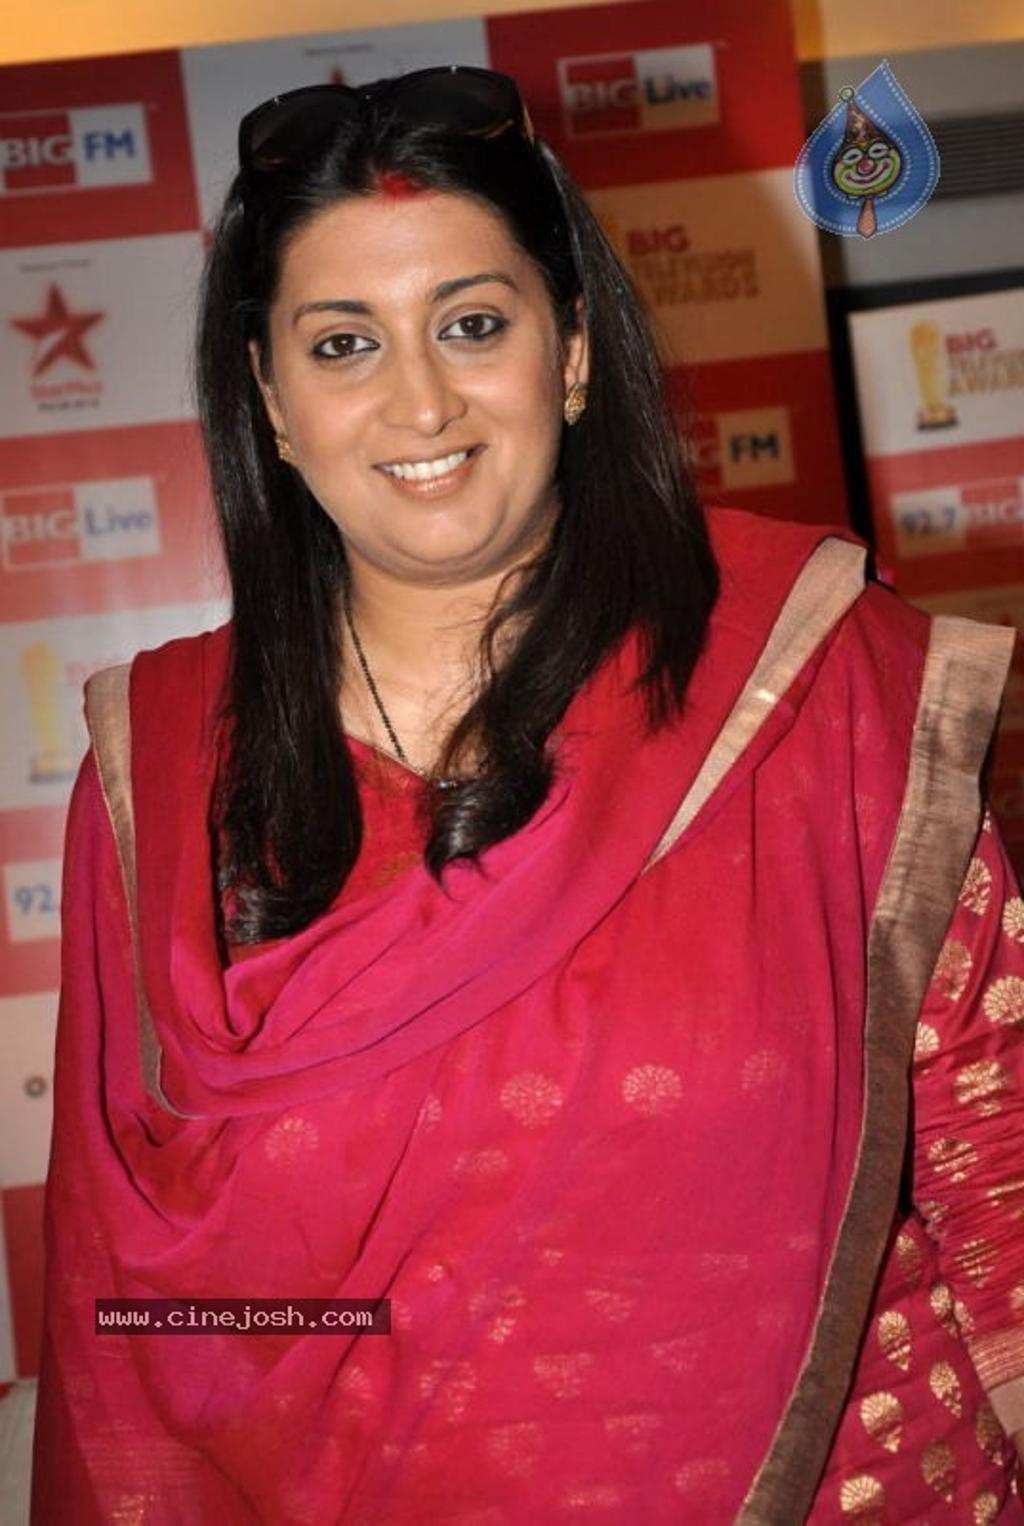face: (274, 196, 560, 571)
